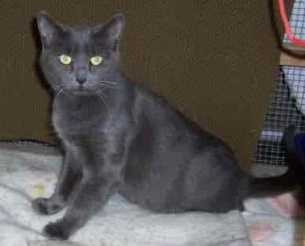Cat: (34, 13, 280, 239)
